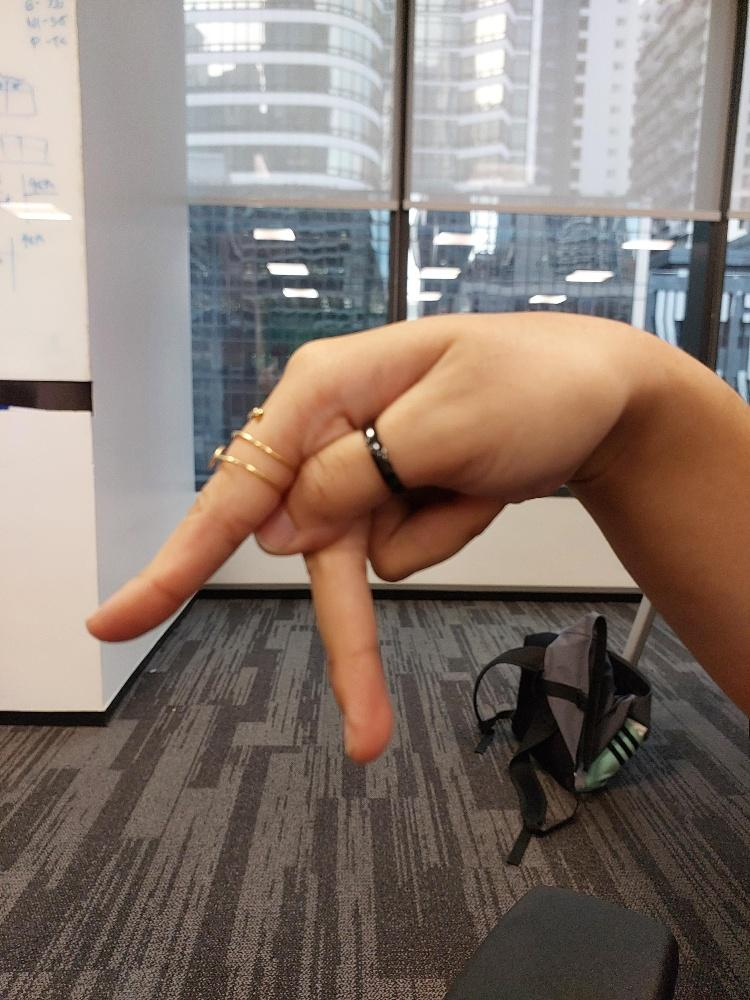p: (80, 304, 638, 765)
